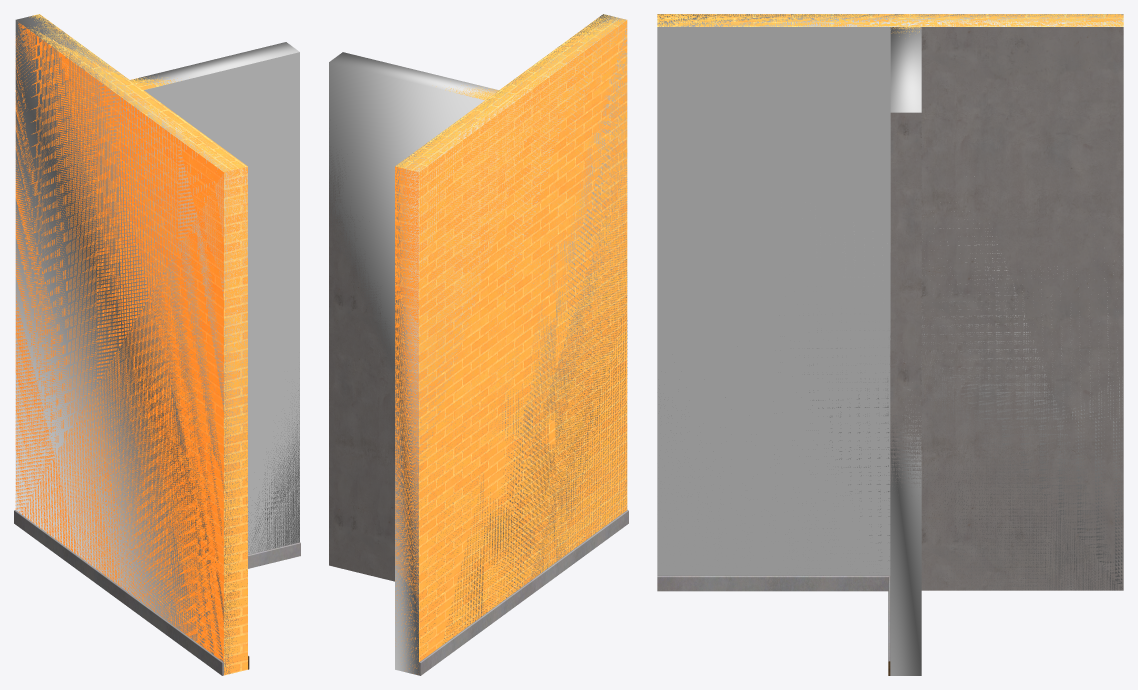
The model's file is SM_Wall_T_Intersection_3x3_5_01c.fbx.
3 views of the same model, side by side, from view 1: azimuth 30°, elevation 25°; view 2: azimuth 150°, elevation 25°; view 3: azimuth 270°, elevation 25° (orthographic). The views are drawn at different scales.
Visible parts, largest first — view 1: SM_Wall_T_Intersection_3x3_5_01c, SM_Wall_T_Intersection_3x3_5_01c_ConvexHulls; view 2: SM_Wall_T_Intersection_3x3_5_01c, SM_Wall_T_Intersection_3x3_5_01c_ConvexHulls; view 3: SM_Wall_T_Intersection_3x3_5_01c, SM_Wall_T_Intersection_3x3_5_01c_ConvexHulls.
Part boxes in pixels (x1=…): SM_Wall_T_Intersection_3x3_5_01c: x1=14, y1=14, x2=300, y2=675; SM_Wall_T_Intersection_3x3_5_01c_ConvexHulls: x1=15, y1=14, x2=299, y2=674; SM_Wall_T_Intersection_3x3_5_01c: x1=329, y1=14, x2=628, y2=675; SM_Wall_T_Intersection_3x3_5_01c_ConvexHulls: x1=329, y1=14, x2=627, y2=675; SM_Wall_T_Intersection_3x3_5_01c: x1=657, y1=14, x2=1123, y2=675; SM_Wall_T_Intersection_3x3_5_01c_ConvexHulls: x1=657, y1=14, x2=1123, y2=675.
Bounding box in the file's own units: 151 × 400 × 300.
